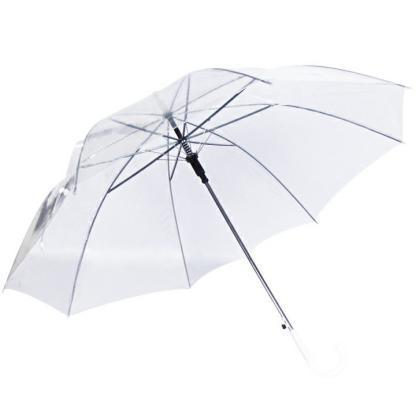Umbrella: (0, 43, 414, 342)
